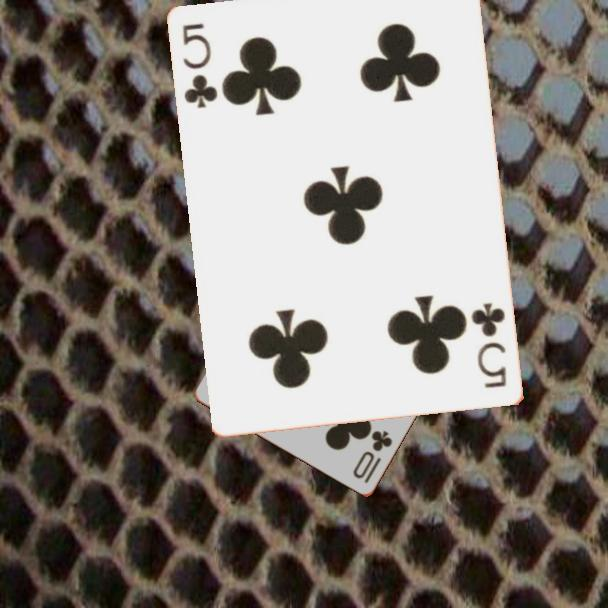c05: (468, 299, 510, 392), (179, 20, 221, 112)
c10: (349, 427, 396, 487)
